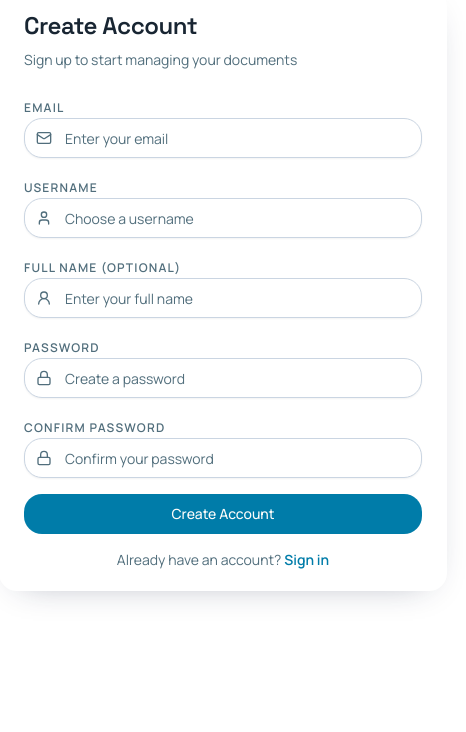
Test case: RegisterForm › validates required fields on submit
Click the button "Create Account": (223, 514) [24, 494, 422, 534]
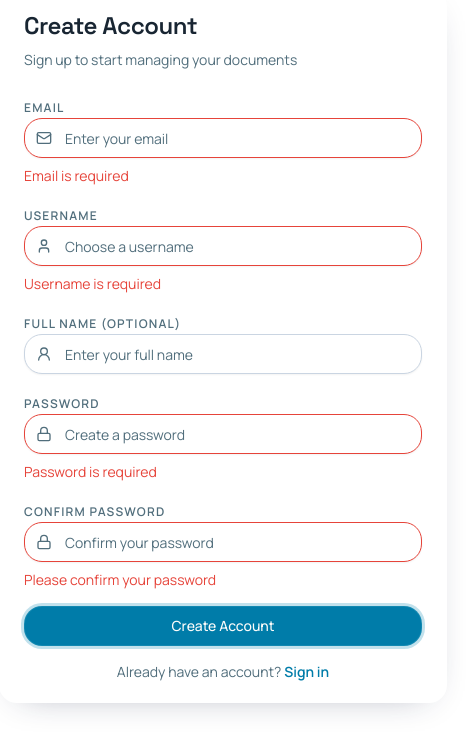
expect the text "Email is required" is shown: met, box [24, 166, 129, 185]
expect the text "Username is required" is shown: met, box [24, 274, 161, 293]
expect the text "Password is required" is shown: met, box [24, 462, 157, 481]
